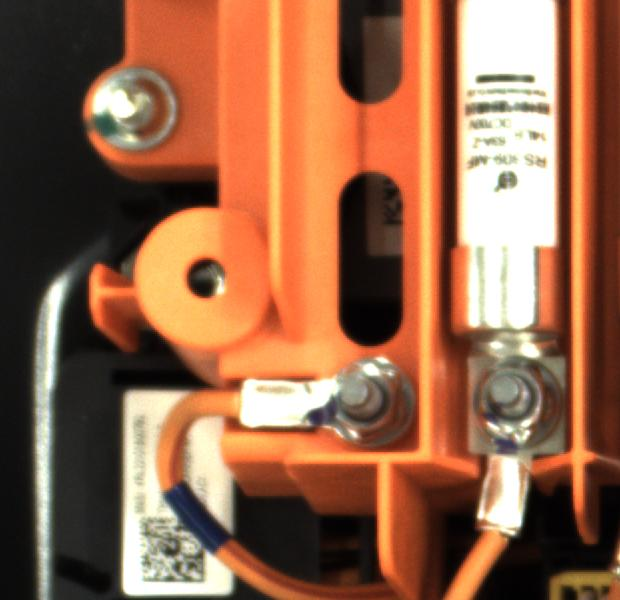screw_m: (82, 57, 193, 158)
screw_s: (468, 353, 564, 445), (326, 348, 413, 447)
